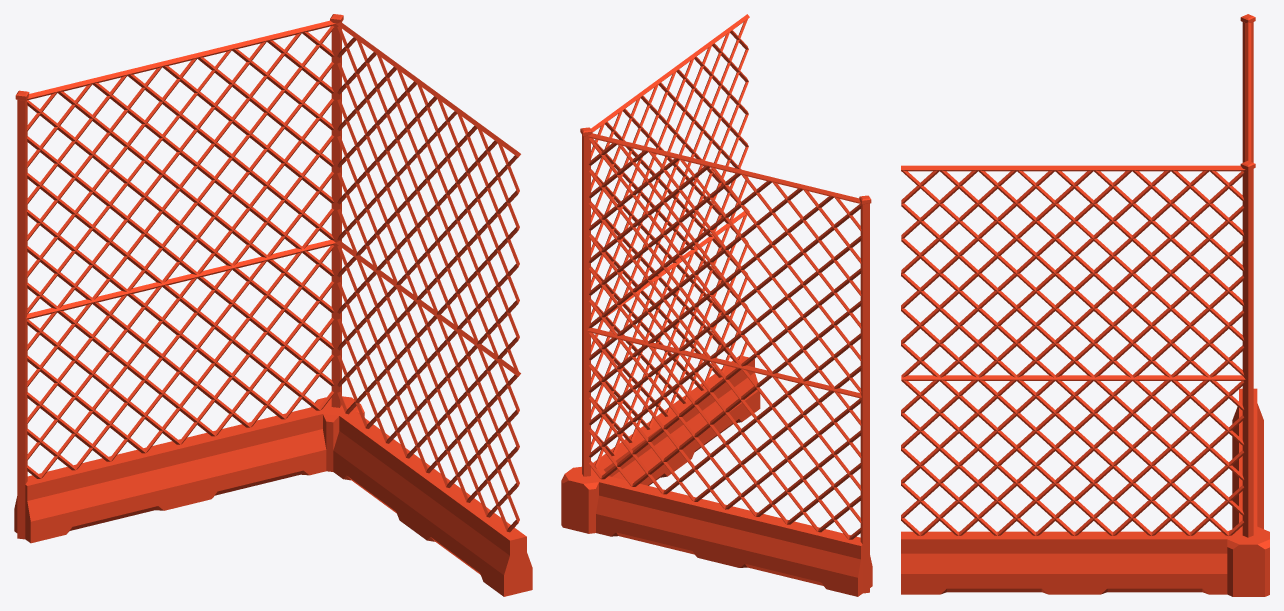
File: SM_Fence_Construction_Corner_Tall_3m_City.fbx
3 views of the same model, side by side, from view 1: azimuth 30°, elevation 25°; view 2: azimuth 150°, elevation 25°; view 3: azimuth 270°, elevation 25° (orthographic). The views are drawn at different scales.
Parts seen in each view (by area): view 1: SM_Fence_Construction_Corner_Tall_3m_City; view 2: SM_Fence_Construction_Corner_Tall_3m_City; view 3: SM_Fence_Construction_Corner_Tall_3m_City.
Boxes of the visible parts, bbox=[...] form: SM_Fence_Construction_Corner_Tall_3m_City: bbox=[14, 14, 532, 596]; SM_Fence_Construction_Corner_Tall_3m_City: bbox=[561, 14, 872, 596]; SM_Fence_Construction_Corner_Tall_3m_City: bbox=[901, 14, 1269, 596].
Size of the model in its own units: 3.25 by 4.05 by 3.19.
